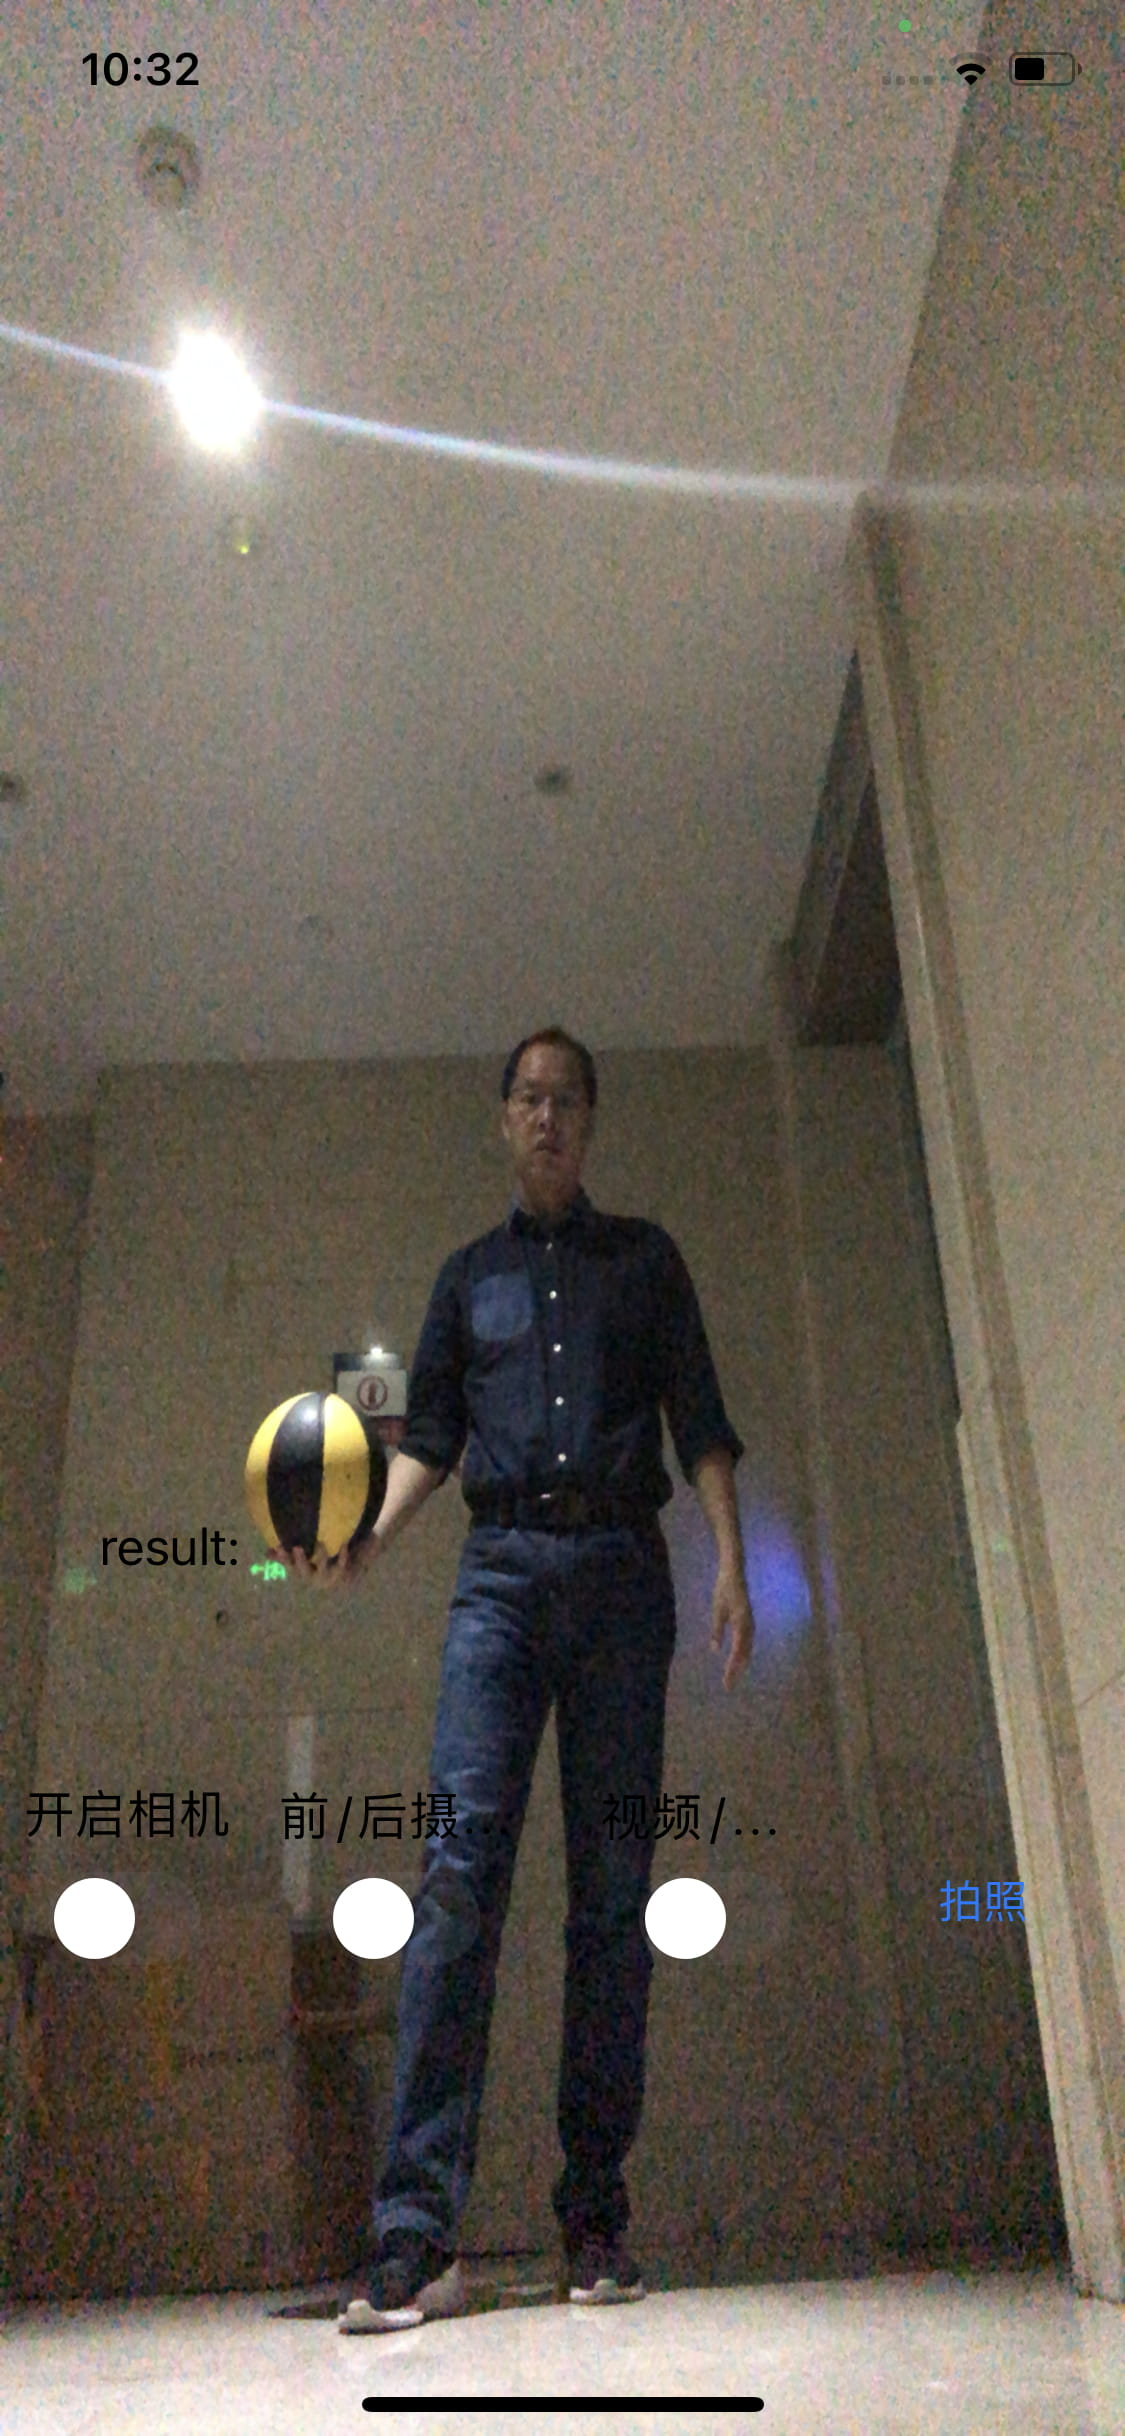ball: (246, 1390, 385, 1568)
